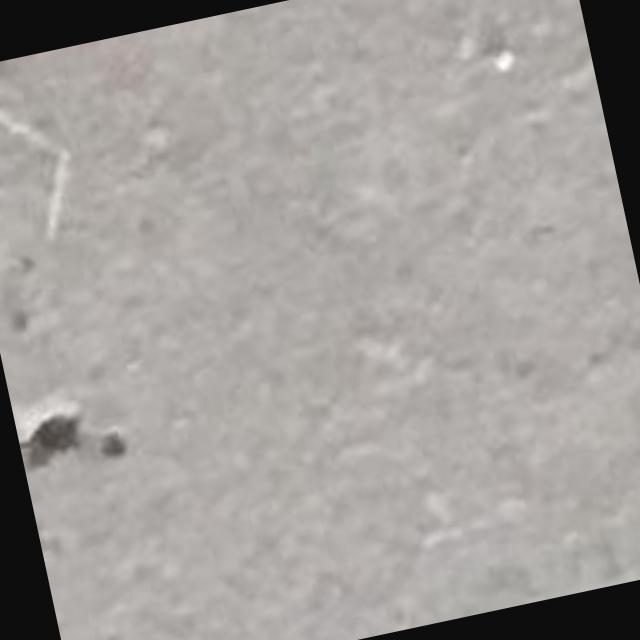peeling plaster: (19, 413, 126, 470)
